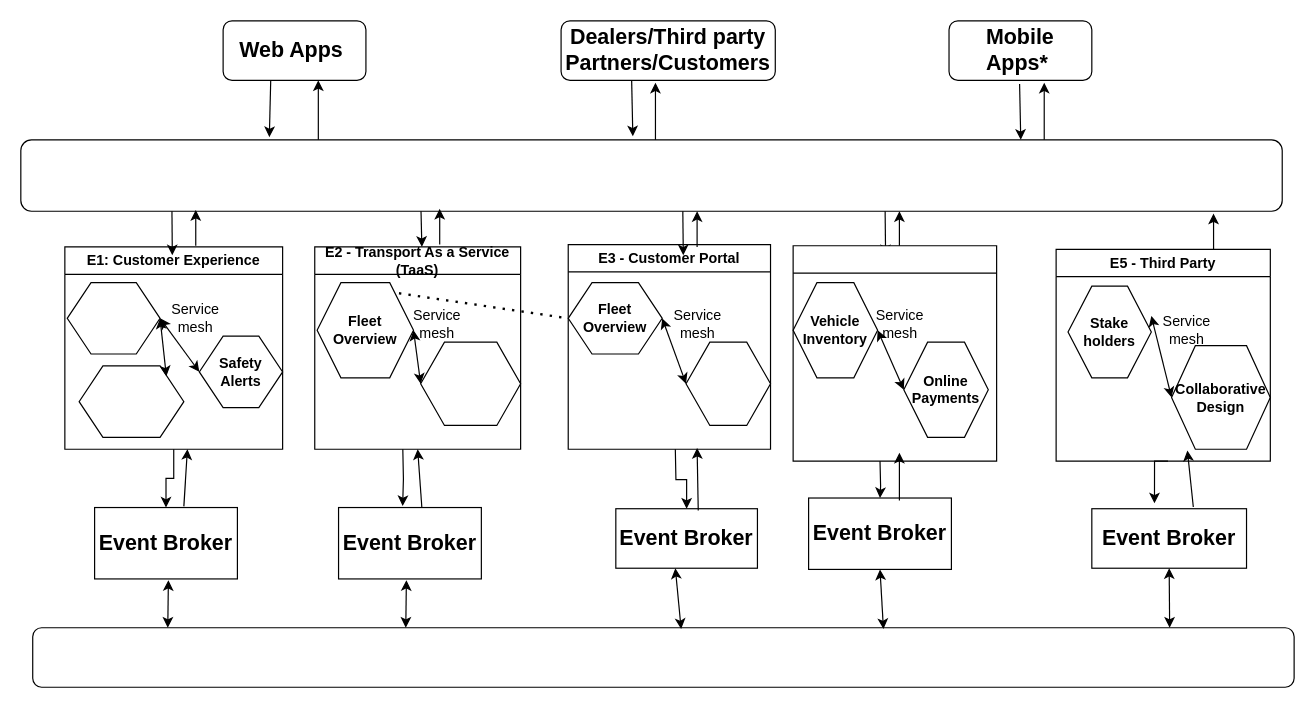
This 1315x708 diagram has some shape labels left out. The shapes that lost their labels are listed below. From the top down, each one's centre as x and y in pixels, then its label:
At point 651,175: "API Gateway - GraphQL".
At point 113,317: "Telematics Analytics".
At point 894,353: "E4 - Dealer Portal".
At point 131,401: "Fleet Optimization".
At point 470,383: "Subscription Service".
At point 728,383: "Vehicle Specs".
At point 663,657: "Event Mesh Orchestration".
